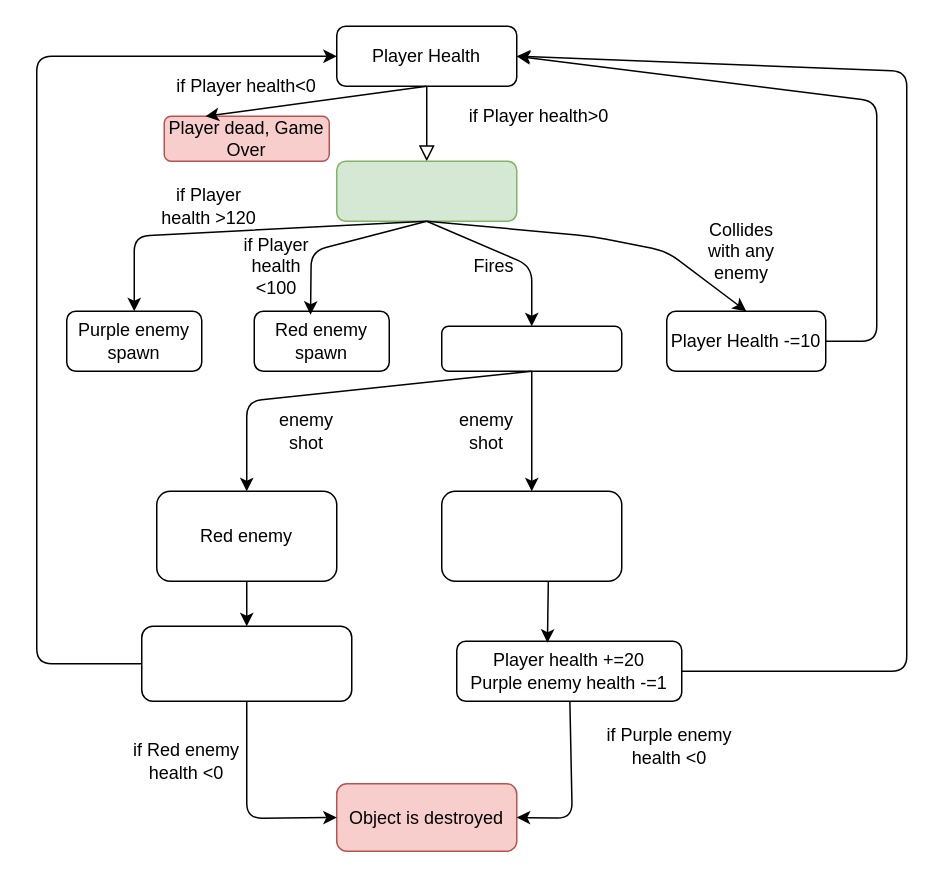
Image size: 945x878. Some labels were removed from this diagram. The centre of each missing label's shape, as x and y in pixels:
"Player Alive" goes at [426,190].
"Player health +=10 Red enemy health -=1" goes at [246,663].
"Purple enemy" goes at [531,535].
"Shoot enemy" goes at [531,348].
